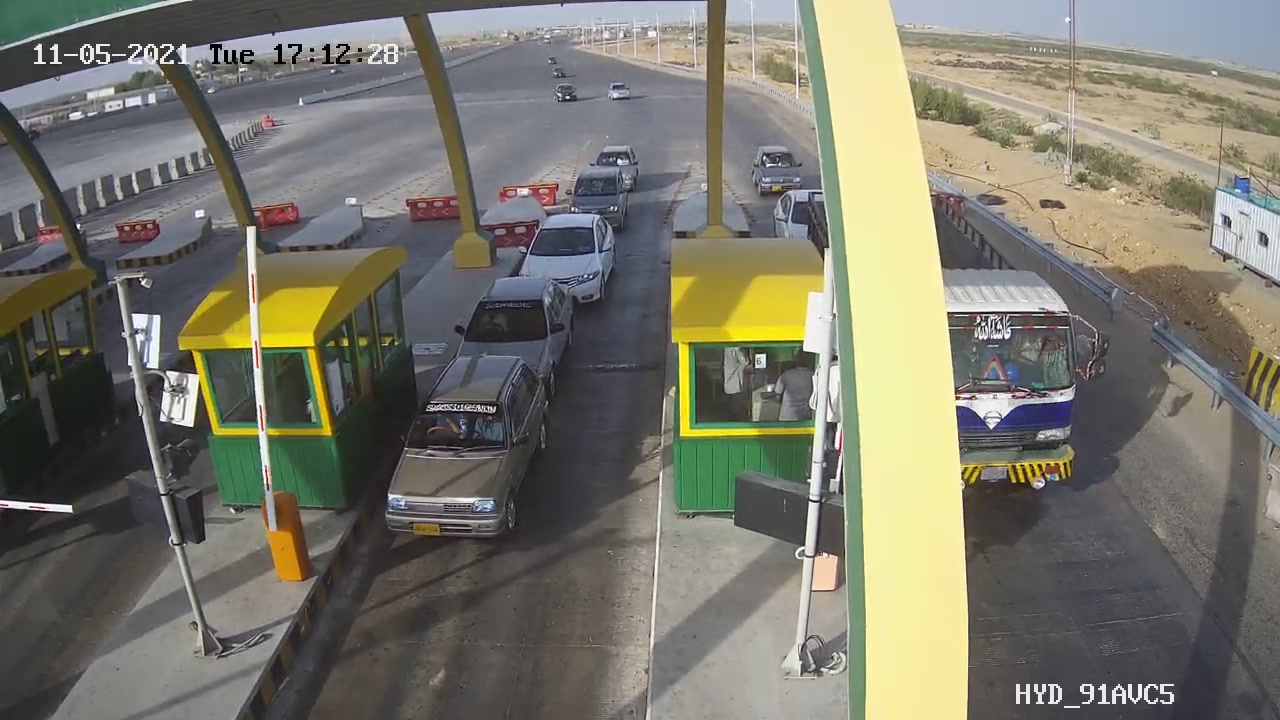F1: (373, 342, 569, 556)
